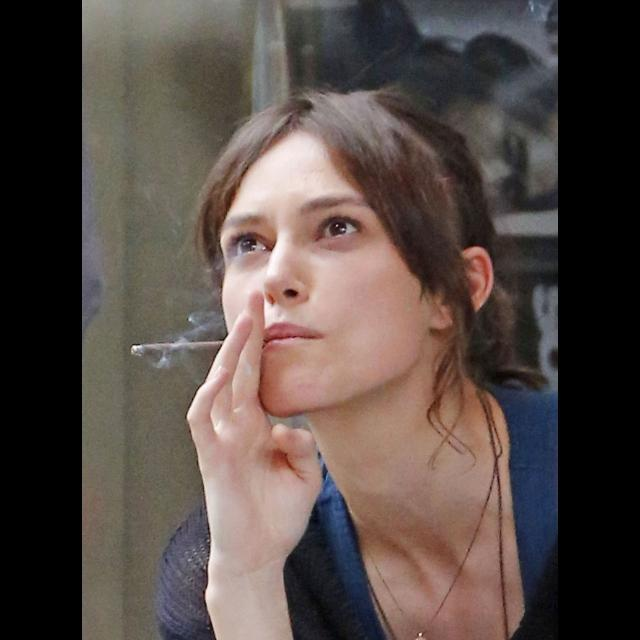rokok: (125, 334, 228, 366)
